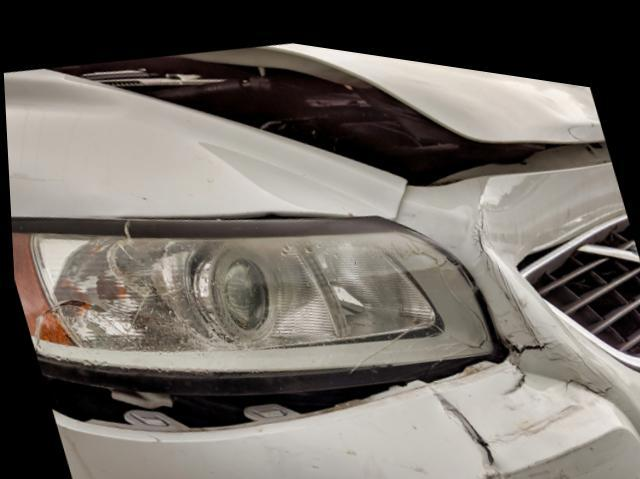crack: (422, 374, 506, 479), (500, 323, 550, 342)
dislocated part: (26, 36, 613, 182), (37, 334, 508, 444)
lamp broken: (9, 206, 497, 391)
scratch: (479, 363, 636, 479)
